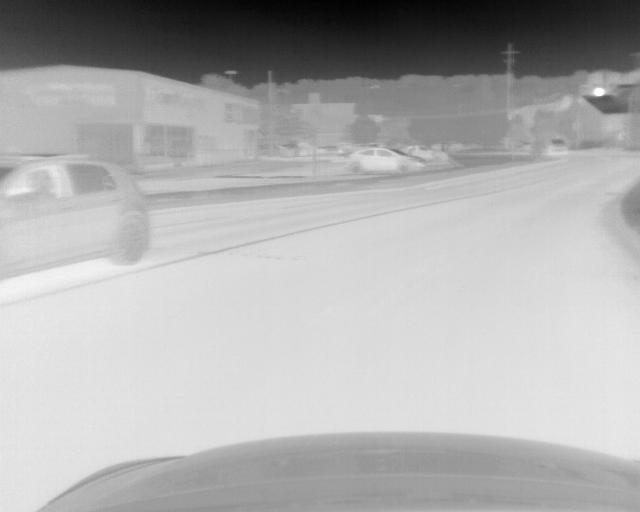car: (1, 150, 151, 282), (349, 147, 423, 174), (404, 145, 452, 168), (542, 136, 568, 159)
